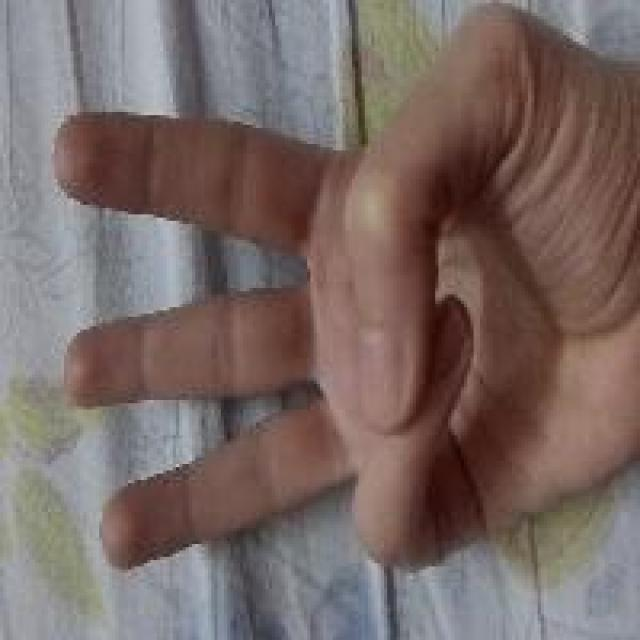W: (53, 48, 638, 640)
